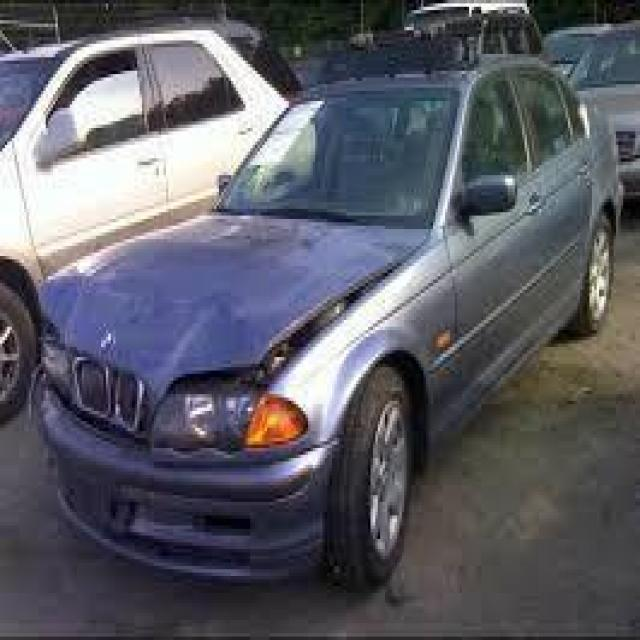damaged: (41, 269, 378, 452)
